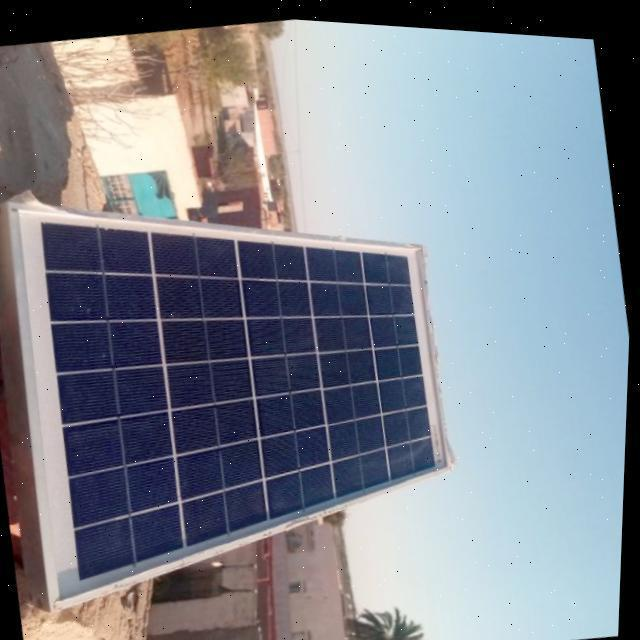Normal Solar Panel: (0, 143, 484, 632)
